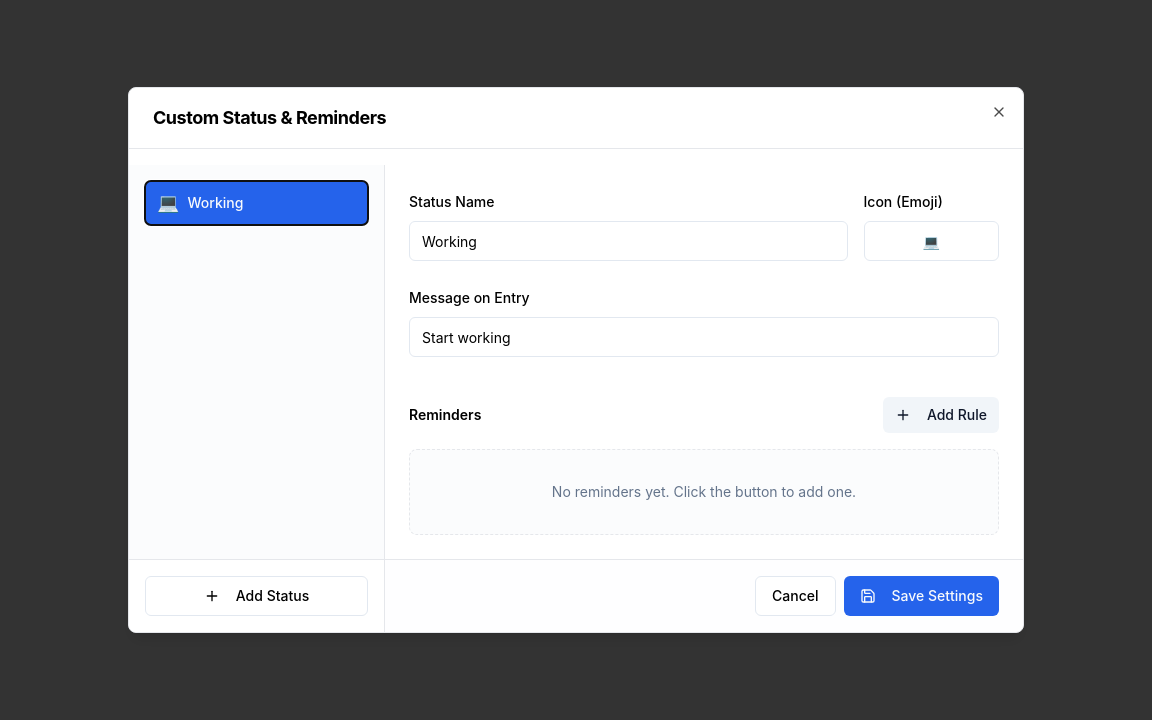
StatusSettingsModal › should handle input changes
The image size is (1152, 720).
Replace the text in the field labelled "Status Name" with "Working hard" at (628,241), box x1=409 y1=221 x2=848 y2=261
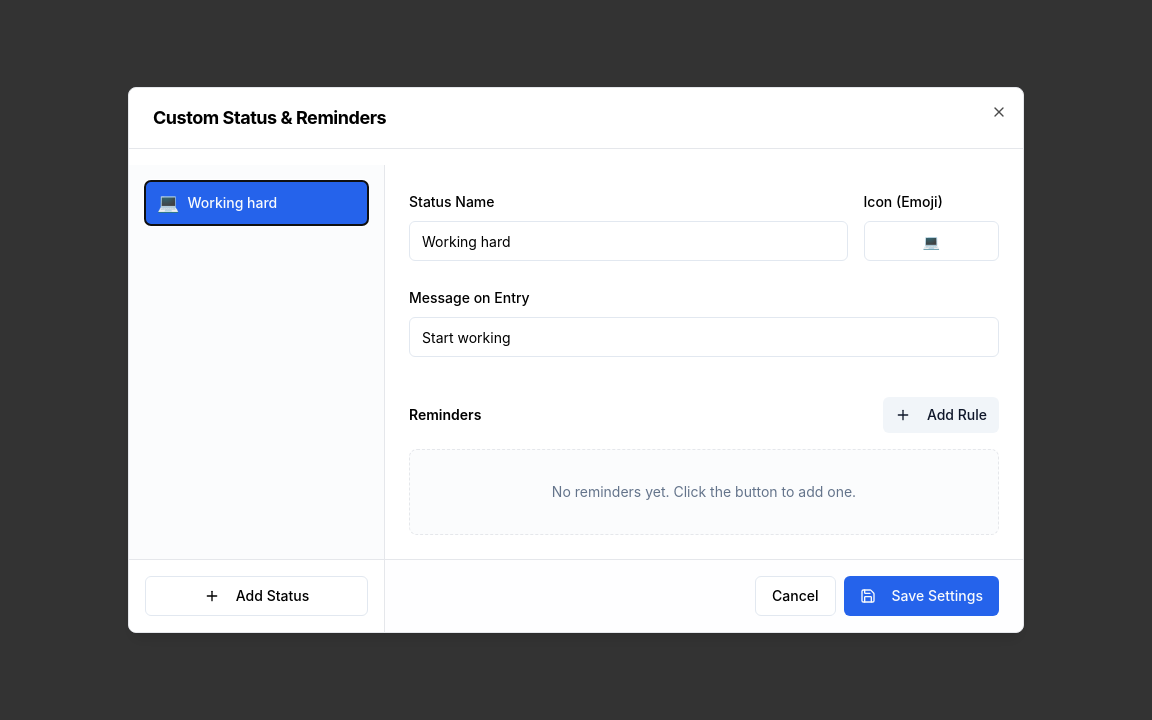
Result: the text "Working hard" is shown at x1=188 y1=193 x2=277 y2=213
